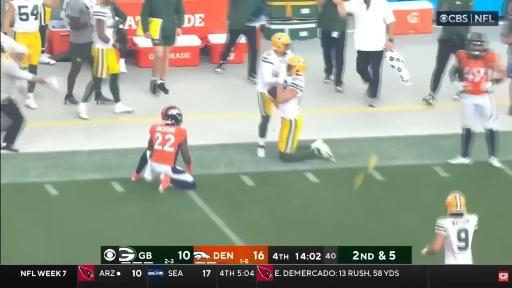Helmet: (466, 32, 488, 55), (446, 191, 466, 214), (162, 106, 182, 125), (271, 33, 291, 52), (287, 56, 306, 75)
Jersey: (436, 214, 478, 264), (456, 51, 496, 95), (150, 124, 187, 166), (257, 50, 293, 93), (278, 76, 304, 118), (10, 0, 43, 32), (92, 5, 115, 48)
Player: (448, 32, 505, 167), (269, 56, 335, 162), (79, 0, 133, 119), (143, 106, 196, 193), (257, 33, 293, 157), (421, 191, 478, 264), (39, 7, 56, 64), (25, 82, 37, 109)
